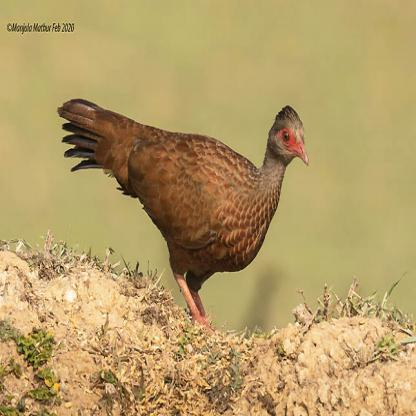Burung: (58, 105, 308, 322)
